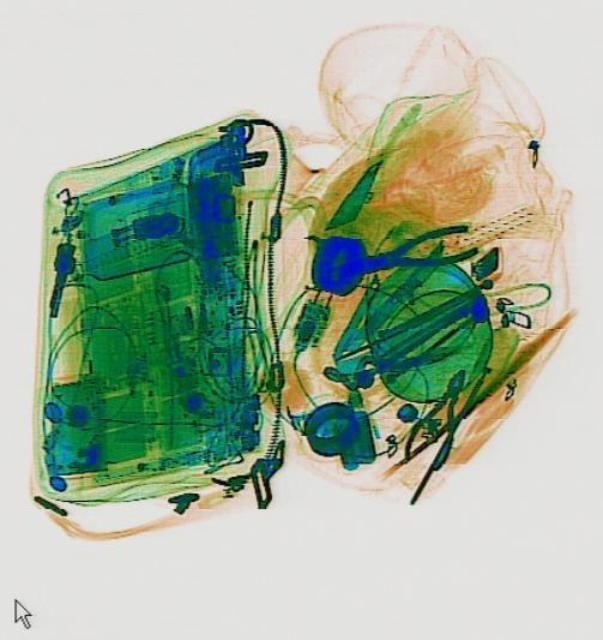Pliers: (397, 358, 482, 472), (347, 218, 478, 284)
